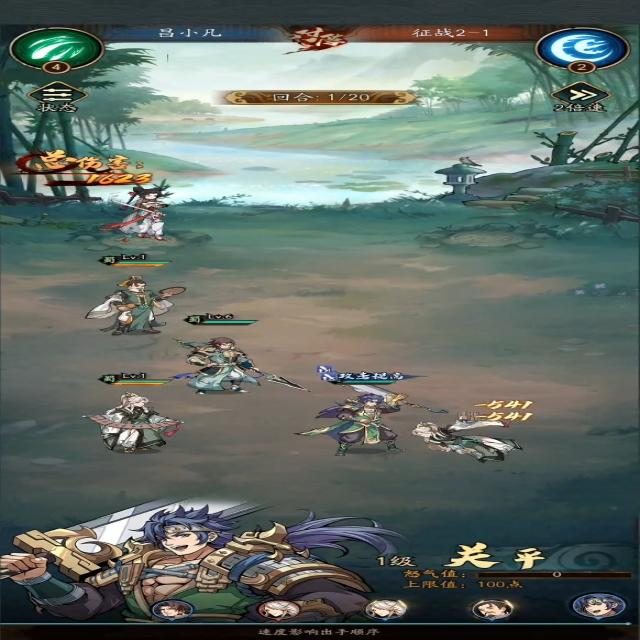hint-guide: (253, 626, 381, 638)
